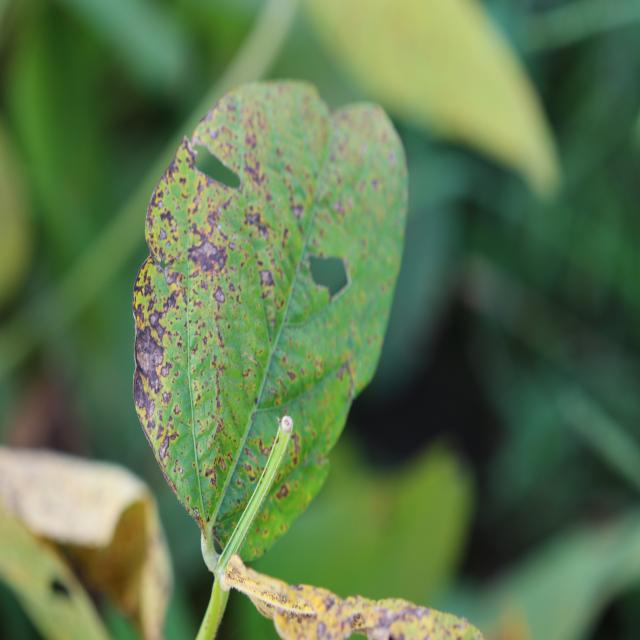Bacterial_Blight: (335, 168, 390, 247), (133, 319, 167, 392), (190, 230, 229, 279), (363, 605, 407, 637), (243, 158, 265, 186), (226, 561, 247, 586), (336, 359, 353, 388), (141, 275, 157, 302), (159, 207, 176, 232), (213, 367, 224, 404), (50, 578, 70, 597), (286, 606, 306, 624), (158, 434, 171, 460), (162, 292, 178, 313), (245, 210, 262, 229), (163, 268, 180, 287), (350, 612, 366, 632), (244, 127, 258, 149), (259, 268, 274, 288), (185, 147, 198, 169), (214, 323, 225, 347), (321, 595, 336, 611), (216, 455, 228, 475), (332, 199, 346, 216), (291, 202, 304, 220), (207, 210, 220, 228), (280, 415, 293, 433), (259, 439, 272, 456), (169, 157, 180, 177), (276, 484, 289, 499), (316, 621, 326, 638), (149, 313, 160, 328), (204, 466, 216, 479), (289, 583, 304, 593), (208, 126, 219, 139), (388, 151, 397, 166), (371, 177, 381, 190), (453, 622, 466, 632), (192, 196, 201, 210), (286, 370, 296, 381), (190, 344, 198, 355), (193, 507, 200, 518), (157, 199, 164, 209), (176, 340, 182, 349), (198, 446, 203, 456), (203, 336, 208, 345), (185, 495, 190, 504), (178, 467, 183, 474)
Soybean: (133, 82, 408, 640)
